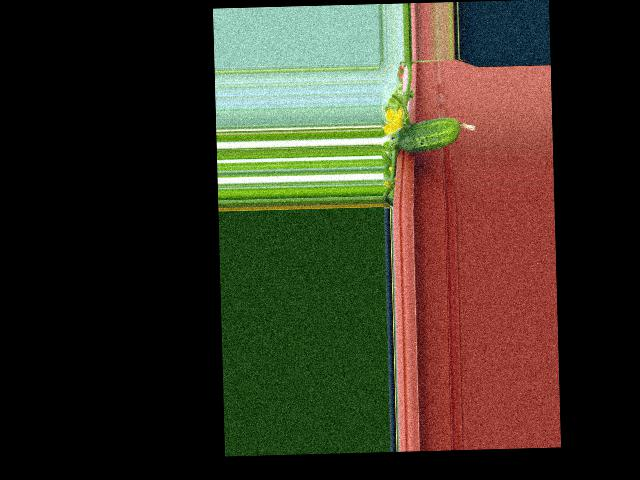cucumber: (396, 116, 476, 152)
